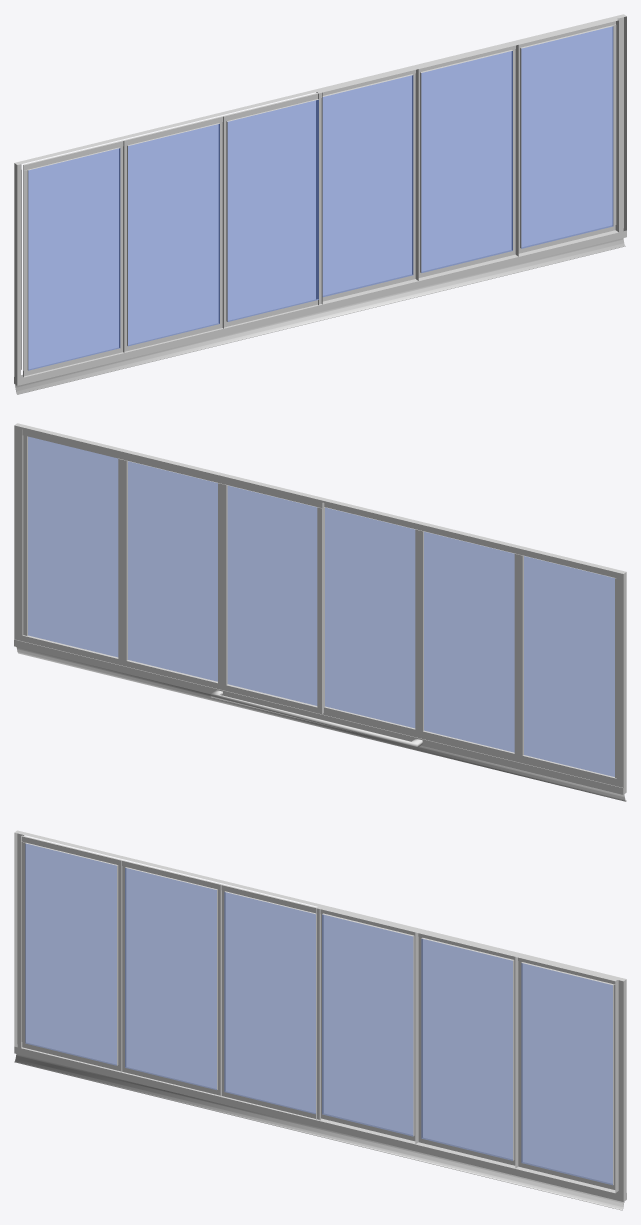
The model's file is sash panels.fbx.
The picture shows the model from 3 angles, top to bottom: view 1: azimuth 30°, elevation 25°; view 2: azimuth 150°, elevation 25°; view 3: azimuth 330°, elevation 25°; orthographic projection.
Parts seen in each view (by area): view 1: sash panel R 3, sash panel L 3, sash panel L 2, sash panel R 2, sash panel L 1, sash panel R 1, fume hood door frame; view 2: sash panel L 1, sash panel L 2, sash panel L 3, sash panel R 2, sash panel R 3, sash panel R 1, fume hood door frame; view 3: sash panel L 3, sash panel R 3, sash panel L 2, sash panel R 1, sash panel R 2, sash panel L 1, fume hood door frame.
Part boxes in pixels (x1,y1,x2,y2): sash panel R 3: (23, 140, 124, 377); sash panel L 3: (515, 19, 618, 256); sash panel L 2: (417, 43, 518, 280); sash panel R 2: (123, 116, 223, 352); sash panel L 1: (316, 67, 418, 304); sash panel R 1: (223, 92, 322, 328); fume hood door frame: (14, 14, 626, 394); sash panel L 1: (222, 478, 324, 714); sash panel L 2: (122, 454, 222, 689); sash panel L 3: (22, 429, 122, 665); sash panel R 2: (419, 526, 518, 760); sash panel R 3: (518, 550, 616, 784); sash panel R 1: (324, 503, 419, 735); fume hood door frame: (14, 423, 626, 801); sash panel L 3: (515, 955, 618, 1193); sash panel R 3: (21, 835, 122, 1072); sash panel L 2: (415, 931, 516, 1168); sash panel R 1: (220, 884, 320, 1120); sash panel R 2: (121, 860, 221, 1096); sash panel L 1: (316, 907, 418, 1144); fume hood door frame: (14, 830, 626, 1210).
Size of the model in its own units: 222 by 79.94 by 5.78.
